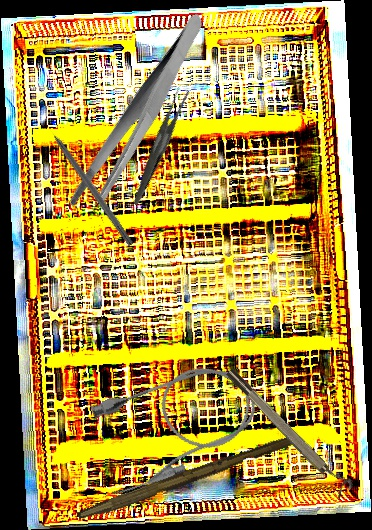Cannula: (79, 348, 271, 505)
Dressing Forceps: (31, 10, 249, 221), (101, 84, 216, 206)
Fixation Ring: (223, 360, 356, 501)
Hook Surgical: (41, 118, 136, 247)
Scalpel Handle: (76, 429, 297, 528)
